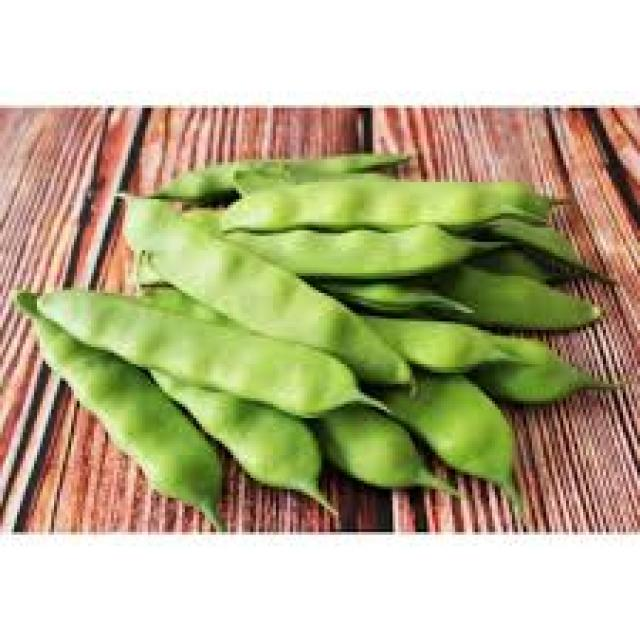organic waste: (114, 182, 415, 384), (11, 284, 228, 535), (26, 276, 387, 412), (140, 361, 338, 509), (376, 361, 524, 509), (227, 165, 569, 222), (222, 219, 503, 282), (205, 180, 549, 230), (304, 392, 461, 495), (136, 145, 406, 196), (472, 330, 634, 407), (441, 259, 597, 333), (481, 216, 620, 290), (316, 270, 472, 316)
